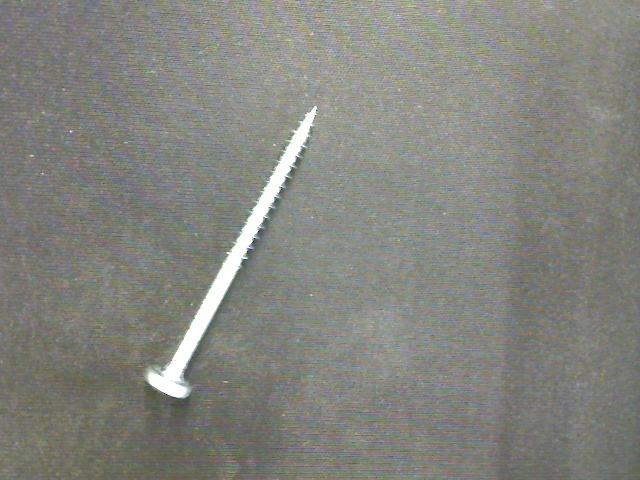Screw: (144, 107, 316, 399)
